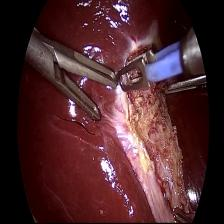Bipolar: (117, 35, 189, 97)
Grasper: (22, 22, 120, 130)
